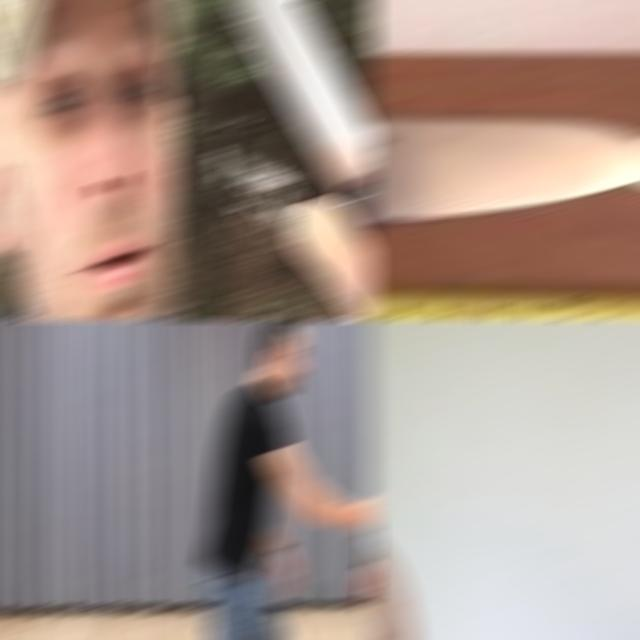Knife: (228, 2, 376, 250), (366, 120, 640, 220)
Knife_Handle: (366, 18, 640, 267), (349, 485, 376, 528)
